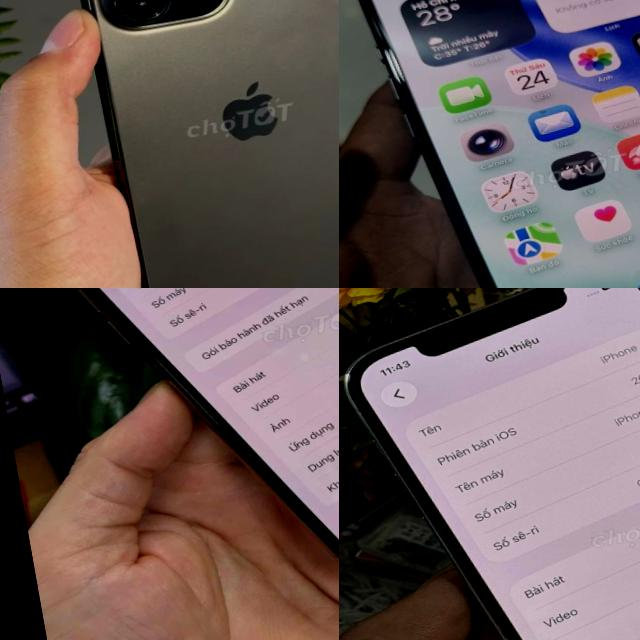gen_11: (15, 288, 339, 628)
gen_12_13: (339, 288, 640, 640), (60, 0, 339, 288)
gen_16: (361, 0, 640, 288)
